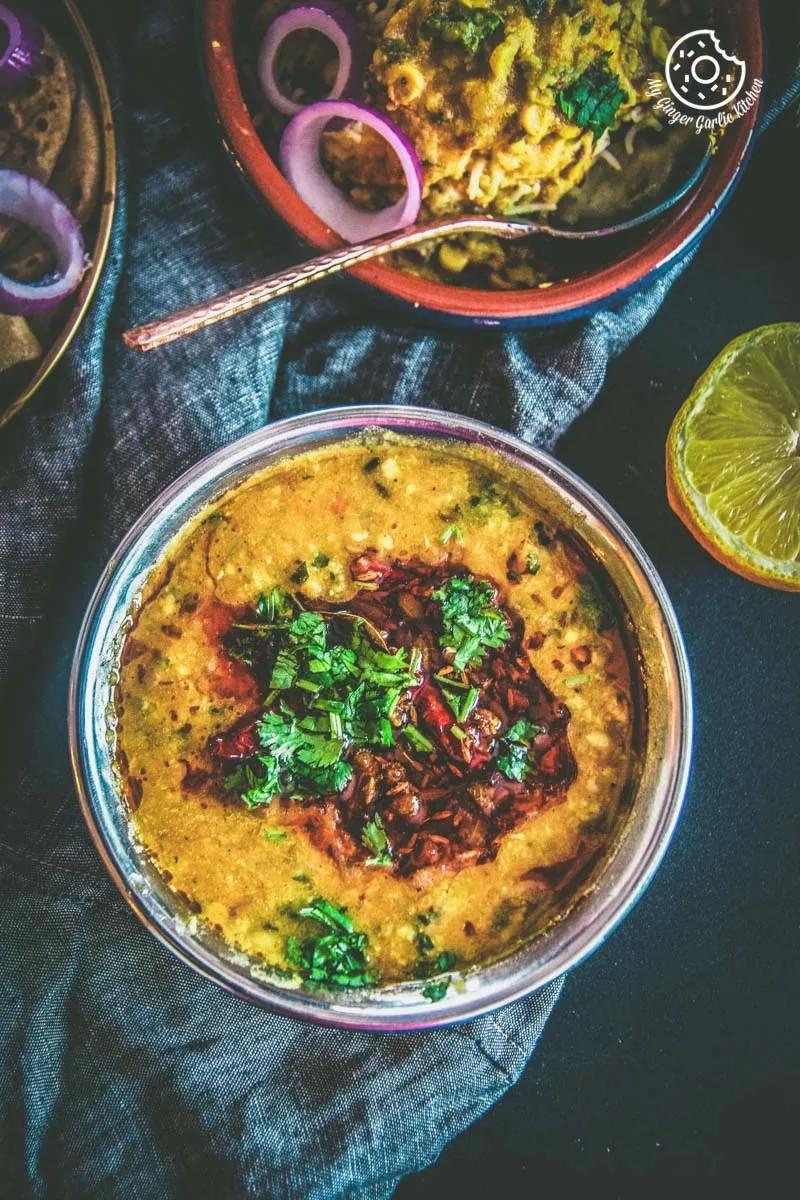Dal: (112, 438, 635, 987)
